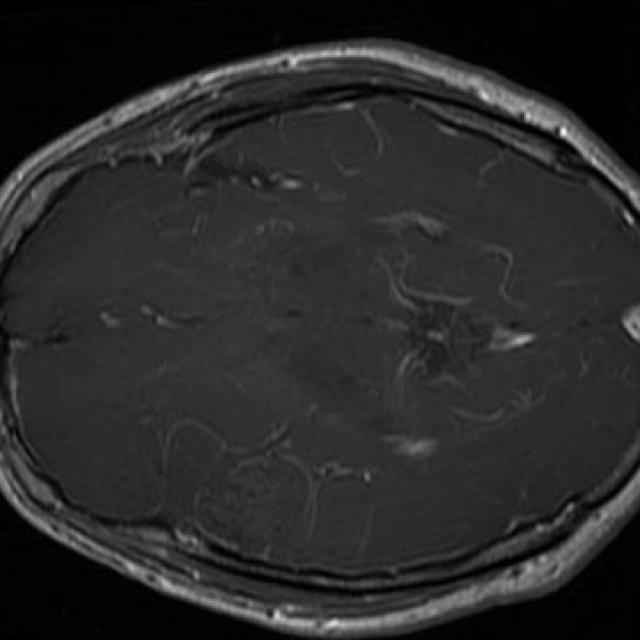glioma: (198, 451, 314, 560)
